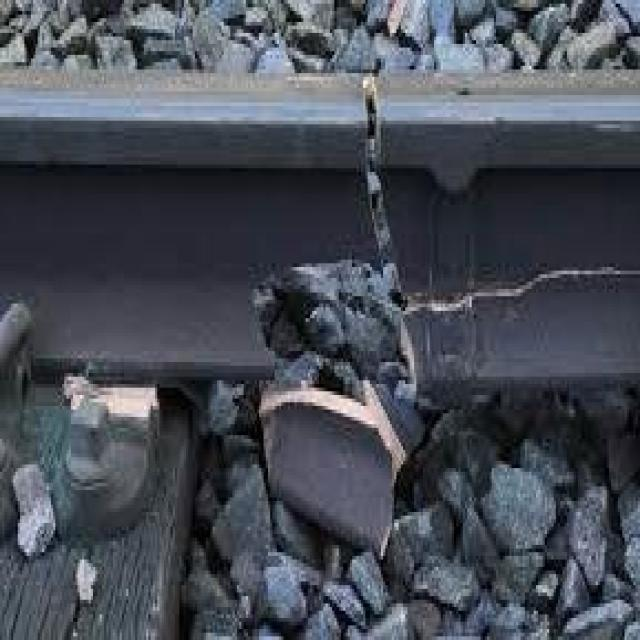broken_rail_high: (234, 69, 476, 384)
